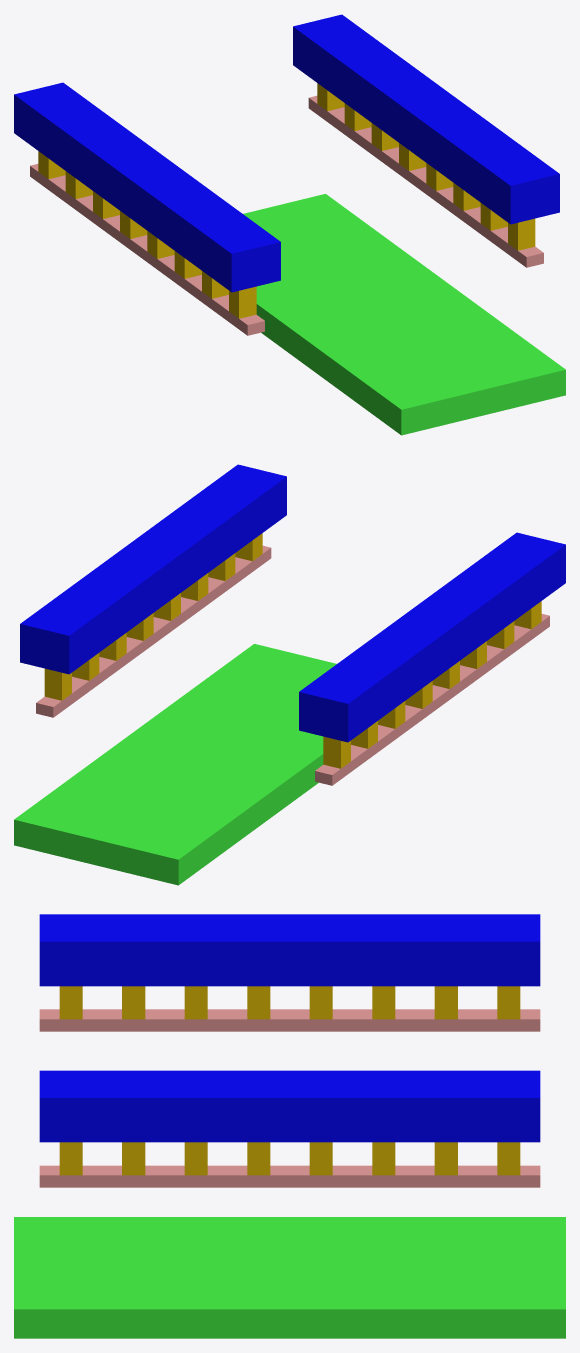
The model's file is sky130_fd_sc_hd__fill_8.obj.
3 renders of one model, top to bottom at view 1: azimuth 30°, elevation 25°; view 2: azimuth 150°, elevation 25°; view 3: azimuth 270°, elevation 25°, orthographic. The views are drawn at different scales.
Visible parts, largest first — view 1: metal1, nwell, mcon, li; view 2: metal1, nwell, mcon, li; view 3: metal1, nwell, li, mcon.
Boxes of the visible parts, x1=… form: metal1: x1=14, y1=14, x2=559, y2=292; nwell: x1=243, y1=194, x2=565, y2=435; mcon: x1=38, y1=83, x2=535, y2=318; li: x1=30, y1=95, x2=543, y2=335; metal1: x1=20, y1=464, x2=565, y2=742; nwell: x1=14, y1=644, x2=336, y2=885; mcon: x1=44, y1=533, x2=541, y2=768; li: x1=36, y1=545, x2=549, y2=785; metal1: x1=39, y1=914, x2=540, y2=1142; nwell: x1=14, y1=1217, x2=565, y2=1338; li: x1=39, y1=1009, x2=540, y2=1187; mcon: x1=59, y1=986, x2=520, y2=1175.
Size of the model in its own units: 3.2 by 1.98 by 4.06.
